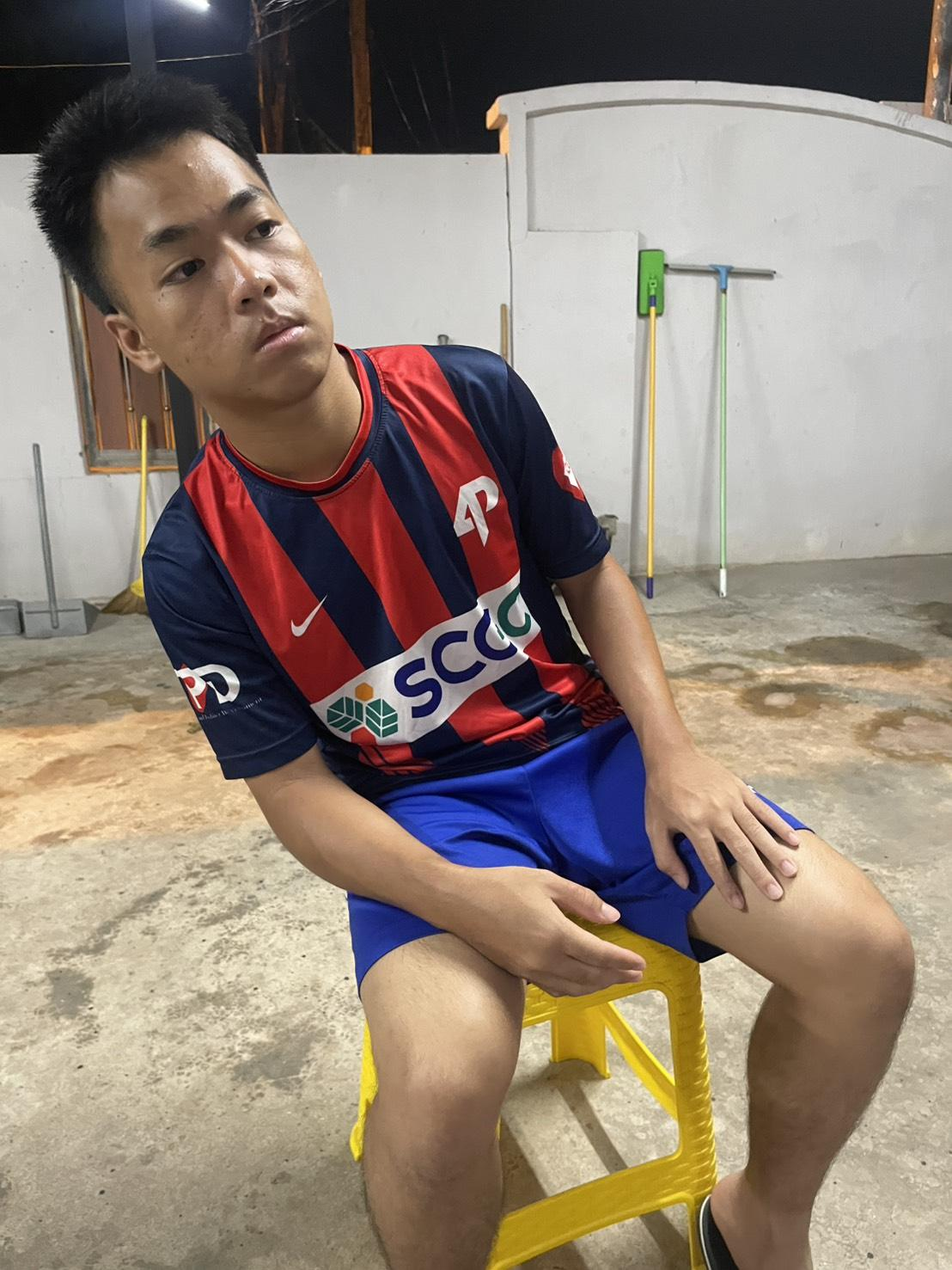BadPosture: (31, 76, 755, 822), (32, 77, 696, 791)
